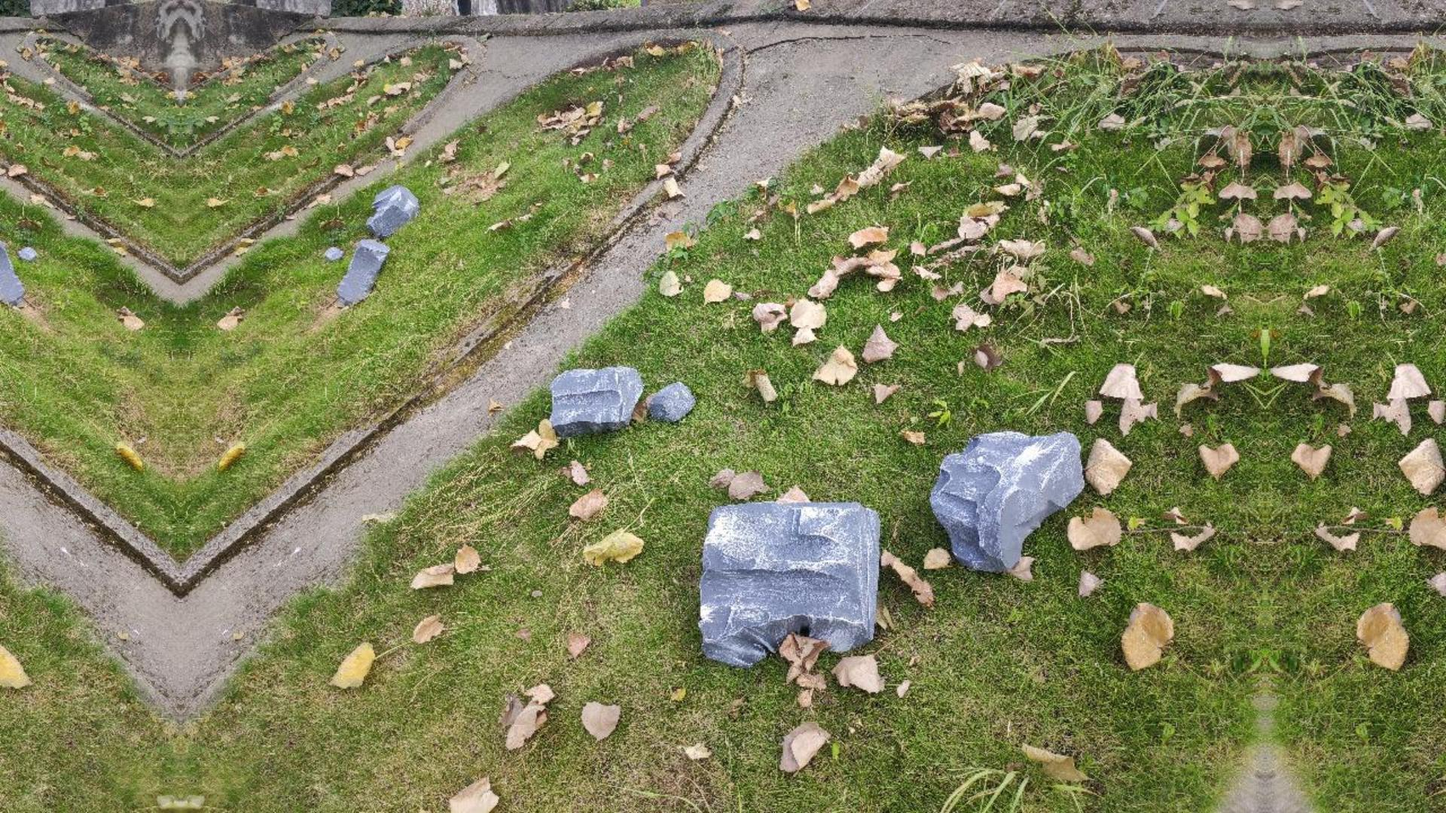rock: (698, 501, 879, 666), (930, 431, 1083, 571), (550, 367, 642, 436), (337, 239, 389, 305), (366, 185, 419, 238), (646, 382, 695, 421), (0, 241, 24, 306)
